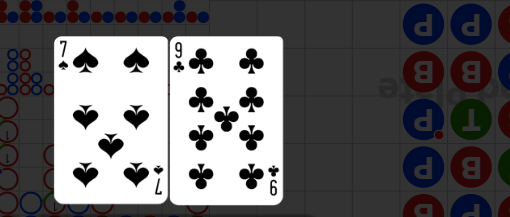7S: (58, 40, 71, 73)
